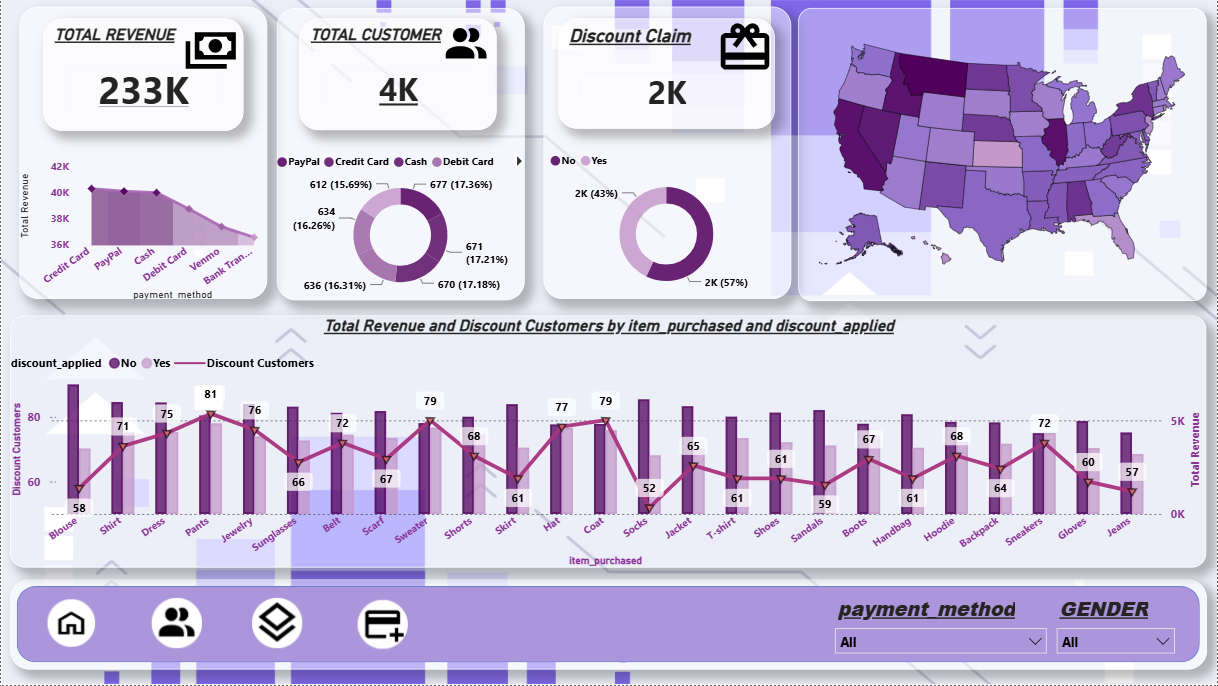

The dashboard page shown, as its layout file describes it:
{"tool":"powerbi","page":{"name":"Payment & Discount","canvas":[1280,720],"ordinal":3},"visuals":[{"type":"image","box":[0,0,1280.5,719.5],"z":0},{"type":"group","id":"g1","title":"Group 1","box":[313.8,18.7,207.9,117.1],"z":0,"group":"g7"},{"type":"cardVisual","title":"Discount Claim","fields":{"Data":["Customer.Discount Customers"]},"box":[586.7,20,228,116],"z":0,"group":"g9"},{"type":"cardVisual","title":"TOTAL REVENUE","fields":{"Data":["Customer.Total Revenue"]},"box":[45,18.8,210.5,118.2],"z":1000,"group":"g8"},{"type":"image","box":[458.4,19.9,62.5,51.4],"z":1000,"group":"g7"},{"type":"image","box":[752,20,62.7,61.3],"z":1000,"group":"g9"},{"type":"shape","box":[9.6,609.6,1258.9,94.5],"z":1000},{"type":"cardVisual","title":"TOTAL CUSTOMER ","fields":{"Data":["Customer.Total customers"]},"box":[313.8,18.7,207.9,117.1],"z":2000,"group":"g1"},{"type":"actionButton","title":"home_A","box":[20,631.2,108.6,50],"z":2000},{"type":"actionButton","title":"home_A","box":[130.7,629.7,108.6,52.9],"z":3000},{"type":"actionButton","title":"home_A","box":[236,629.7,108.6,52.9],"z":4000},{"type":"shape","box":[290.7,8,260.5,307.9],"z":5000,"group":"g6"},{"type":"actionButton","title":"home_A","box":[346.8,631.2,108.6,52.9],"z":5000},{"type":"shape","box":[570.7,6.7,260.5,307.9],"z":6000},{"type":"group","id":"g2","title":"Group 2","box":[313.8,18.7,208,117.3],"z":6000,"group":"g6"},{"type":"group","id":"g3","title":"Group 3","box":[20,6.7,261.3,308],"z":7000},{"type":"shape","box":[20,6.7,260.5,307.9],"z":7000,"group":"g3"},{"type":"group","id":"g4","title":"Group 4","box":[45,18.8,209.2,118.4],"z":7000,"group":"g5"},{"type":"group","id":"g5","title":"Group 16","box":[45,18.5,209.2,118.4],"z":8000,"group":"g3"},{"type":"slicer","fields":{"Values":["Customer.gender"]},"box":[1105.6,620.8,134.2,69],"z":8000},{"type":"group","id":"g6","title":"Group 5","box":[290.7,8,260.5,307.9],"z":9000},{"type":"areaChart","title":"Payment_method","fields":{"Category":["Customer.payment_method"],"Y":["Customer.Total Revenue"]},"box":[20,160.6,260.5,153.9],"z":9000,"group":"g3"},{"type":"donutChart","fields":{"Y":["Customer.Total customers"],"Category":["Customer.payment_method"]},"box":[291.1,150.7,260,160],"z":10000,"group":"g6"},{"type":"slicer","fields":{"Values":["Customer.payment_method"]},"box":[872.2,620.8,233.3,77.3],"z":10000},{"type":"donutChart","fields":{"Y":["Customer.Total customers"],"Category":["Customer.discount_applied"]},"box":[578.4,150.5,244.6,160.6],"z":11000},{"type":"group","id":"g7","title":"Group 14","box":[313.8,18.7,207.9,117.1],"z":11007,"group":"g2"},{"type":"group","id":"g8","title":"Group 13","box":[45,18.8,209.5,118.2],"z":11007,"group":"g4"},{"type":"group","id":"g9","title":"Group 6","box":[586.7,20,228,116],"z":12000},{"type":"lineClusteredColumnComboChart","fields":{"Category":["Customer.item_purchased"],"Y":["Customer.Total Revenue"],"Y2":["Customer.Discount Customers"],"Series":["Customer.discount_applied"]},"box":[9.7,331.9,1258.3,265.3],"z":13000},{"type":"shapeMap","fields":{"Category":["Customer.location"],"Value":["Customer.Total Revenue"]},"box":[838.9,8.3,429.2,308.3],"z":14000},{"type":"image","box":[189.7,18.5,63.4,57.3],"z":14001,"group":"g5"}]}

Visuals, with their boxes in screenshot pixels (x1, y1, x2, y2), scaled from the page's 1280x720 canvas onto the 1218x686 screenshot:
image: crop(0, 0, 1217, 685)
"Group 1" group: crop(299, 18, 496, 129)
"Discount Claim" cardVisual: crop(558, 19, 775, 130)
"TOTAL REVENUE" cardVisual: crop(43, 18, 243, 131)
image: crop(436, 19, 496, 68)
image: crop(716, 19, 775, 77)
shape: crop(9, 581, 1207, 671)
"TOTAL CUSTOMER " cardVisual: crop(299, 18, 496, 129)
"home_A" actionButton: crop(19, 601, 122, 649)
"home_A" actionButton: crop(124, 600, 228, 650)
"home_A" actionButton: crop(225, 600, 328, 650)
shape: crop(277, 8, 525, 301)
"home_A" actionButton: crop(330, 601, 433, 652)
shape: crop(543, 6, 791, 300)
"Group 2" group: crop(299, 18, 497, 130)
"Group 3" group: crop(19, 6, 268, 300)
shape: crop(19, 6, 267, 300)
"Group 4" group: crop(43, 18, 242, 131)
"Group 16" group: crop(43, 18, 242, 130)
slicer - Customer.gender: crop(1052, 591, 1180, 657)
"Group 5" group: crop(277, 8, 525, 301)
"Payment_method" areaChart: crop(19, 153, 267, 300)
donutChart - Customer.Total customers x Customer.payment_method: crop(277, 144, 524, 296)
slicer - Customer.payment_method: crop(830, 591, 1052, 665)
donutChart - Customer.Total customers x Customer.discount_applied: crop(550, 143, 783, 296)
"Group 14" group: crop(299, 18, 496, 129)
"Group 13" group: crop(43, 18, 242, 131)
"Group 6" group: crop(558, 19, 775, 130)
lineClusteredColumnComboChart - Customer.item_purchased x Customer.Total Revenue: crop(9, 316, 1207, 569)
shapeMap - Customer.location x Customer.Total Revenue: crop(798, 8, 1207, 302)
image: crop(181, 18, 241, 72)
